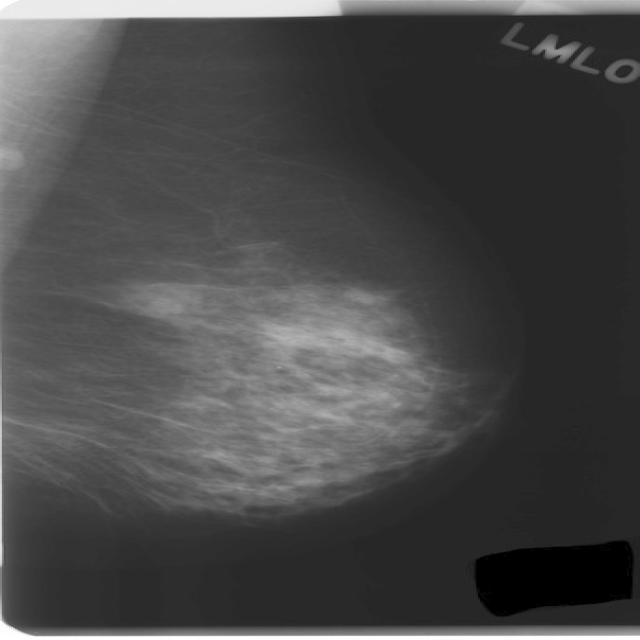tumour: (102, 279, 210, 325)
